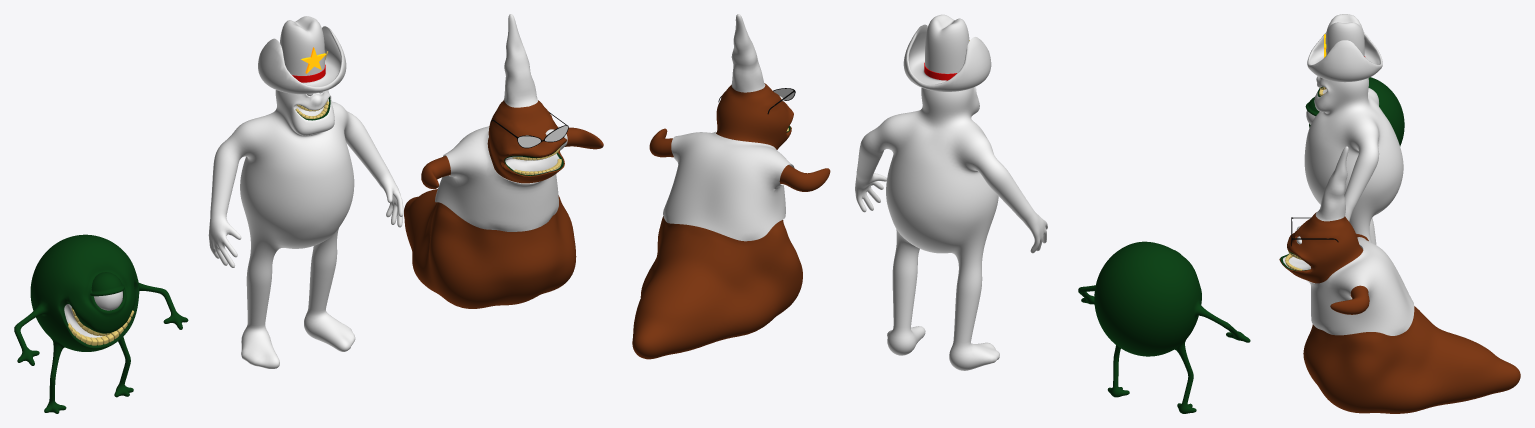
The model's file is Mike Sully Roz.fbx.
3 renders of one model, left to right at view 1: azimuth 30°, elevation 25°; view 2: azimuth 150°, elevation 25°; view 3: azimuth 270°, elevation 25°, orthographic. The views are drawn at different scales.
Parts seen in each view (by area): view 1: Roz, Sully, Mike, Hat, Mike Teeth; view 2: Roz, Sully, Mike, Hat; view 3: Roz, Sully, Hat, Mike.
Part boxes in pixels (bbox=[...]): Roz: bbox=[404, 14, 603, 308]; Sully: bbox=[208, 51, 403, 368]; Mike: bbox=[14, 234, 188, 413]; Hat: bbox=[258, 16, 346, 94]; Mike Teeth: bbox=[68, 307, 134, 345]; Roz: bbox=[632, 14, 830, 359]; Sully: bbox=[855, 86, 1047, 370]; Mike: bbox=[1078, 241, 1250, 413]; Hat: bbox=[903, 14, 991, 91]; Roz: bbox=[1279, 146, 1520, 413]; Sully: bbox=[1304, 76, 1403, 244]; Hat: bbox=[1307, 14, 1382, 82]; Mike: bbox=[1305, 77, 1404, 146].
Size of the model in its own units: 2253 by 1239 by 920.
